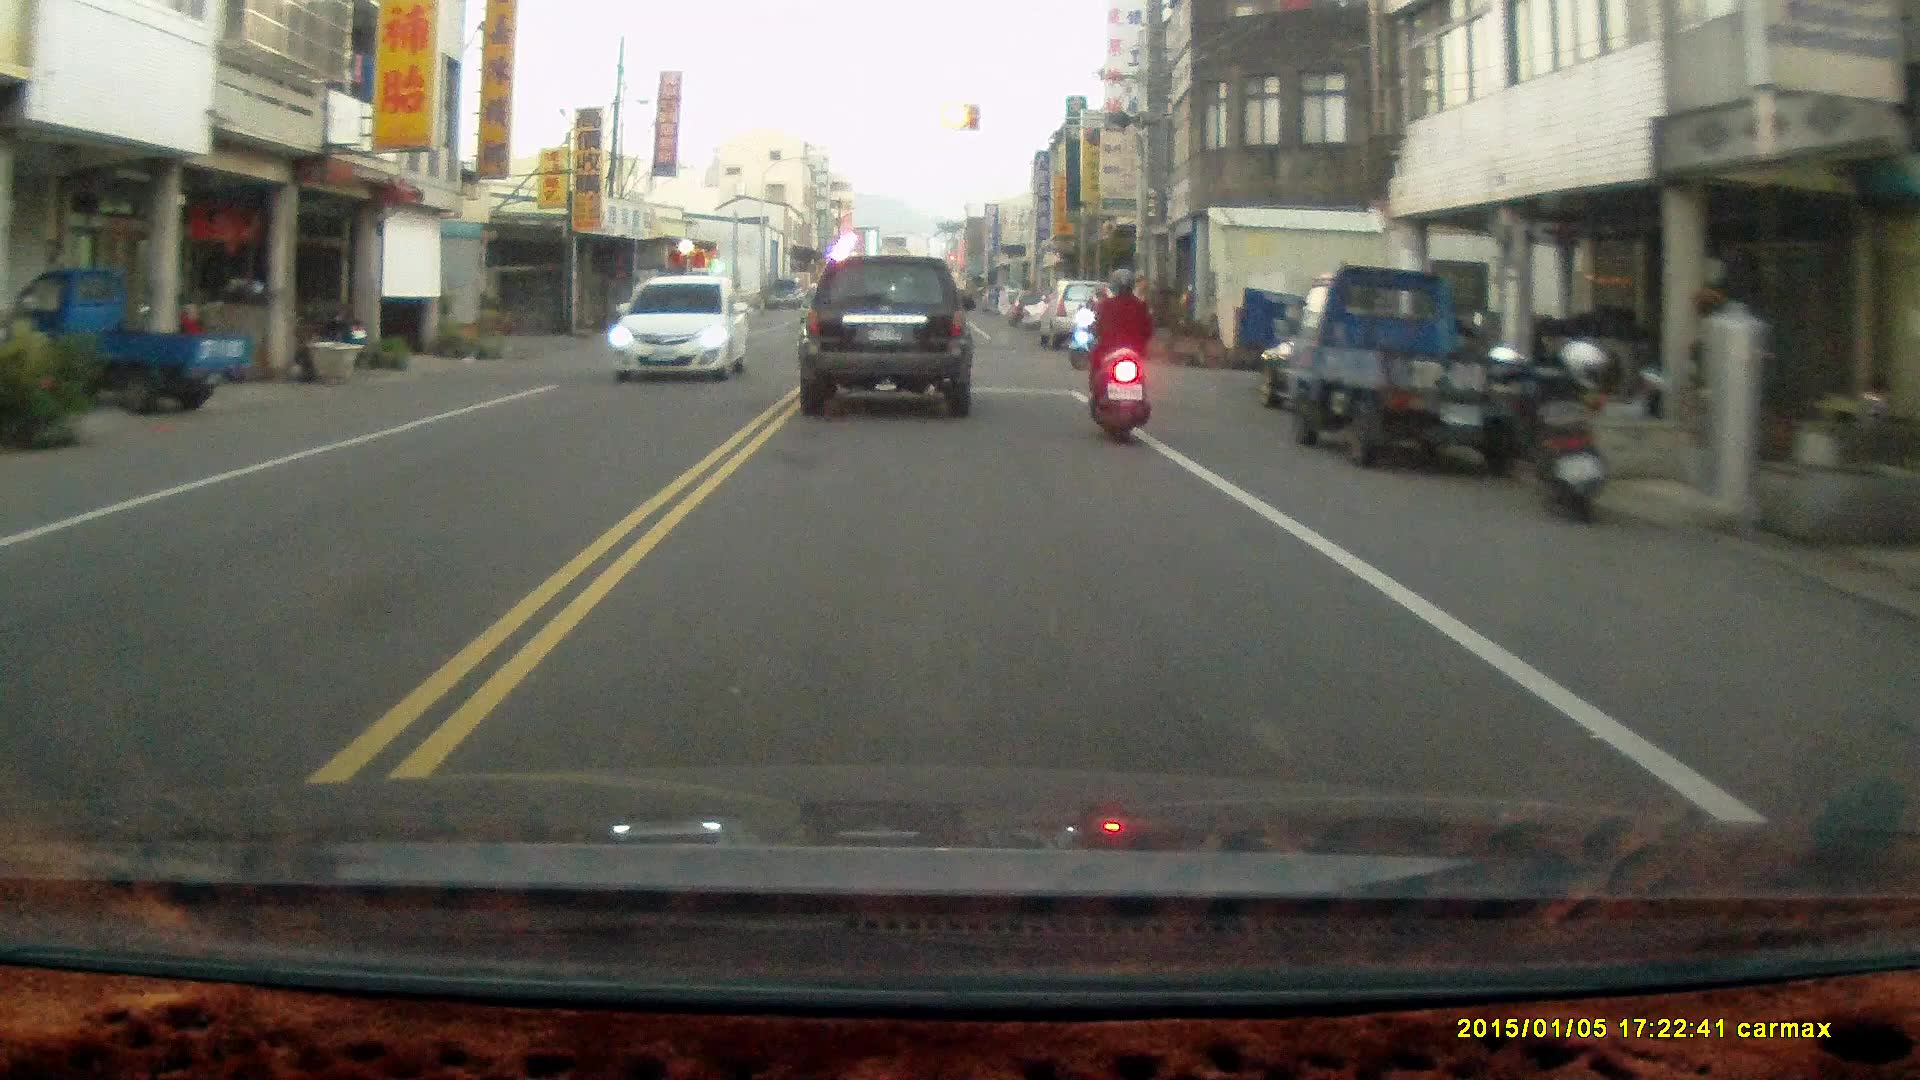rider: (1086, 267, 1152, 450), (1067, 286, 1123, 369)
vehicle: (1285, 262, 1553, 475), (2, 267, 244, 415), (795, 254, 976, 422), (606, 276, 752, 385), (1039, 279, 1123, 350)
